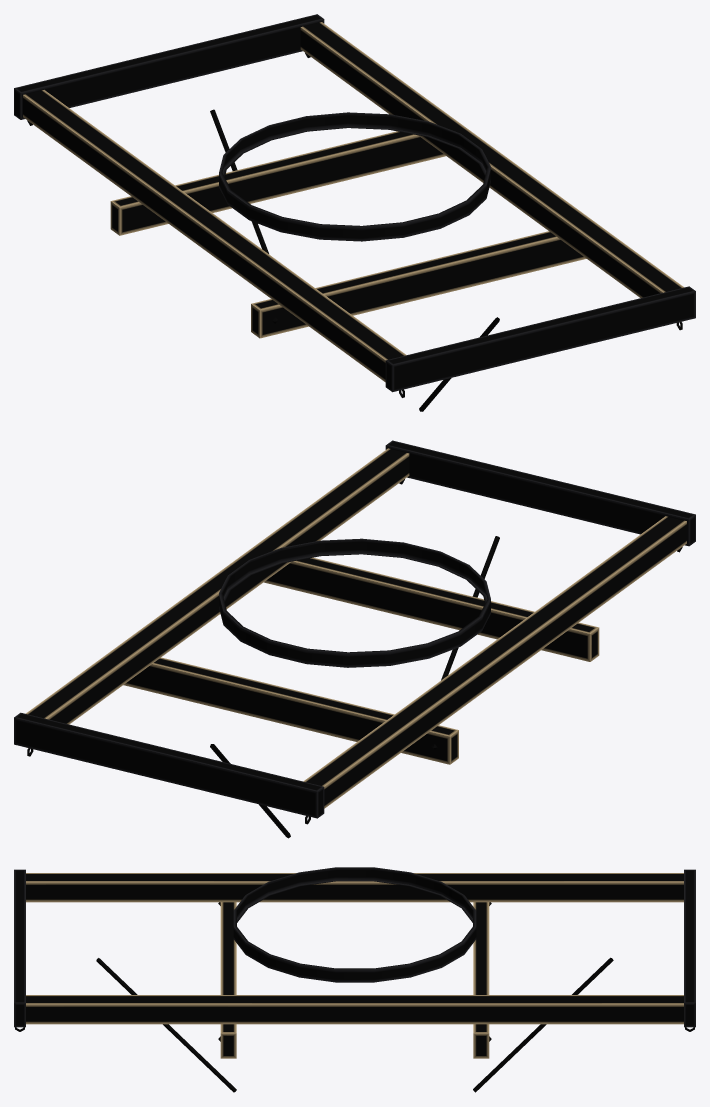
File: crosstree_60.glb
3 views of the same model, one above another, from view 1: azimuth 30°, elevation 25°; view 2: azimuth 150°, elevation 25°; view 3: azimuth 270°, elevation 25° (orthographic). The views are drawn at different scales.
Parts seen in each view (by area): view 1: timber, iron; view 2: timber, iron; view 3: timber, iron.
Part boxes in pixels (x1,y1,x2,y2): timber: (23, 22, 683, 382); iron: (14, 14, 695, 411); timber: (26, 448, 686, 808); iron: (14, 440, 695, 838); timber: (26, 873, 683, 1058); iron: (14, 867, 695, 1092).
Bounding box in the file's own units: 1.76 × 0.9558 × 3.4.
